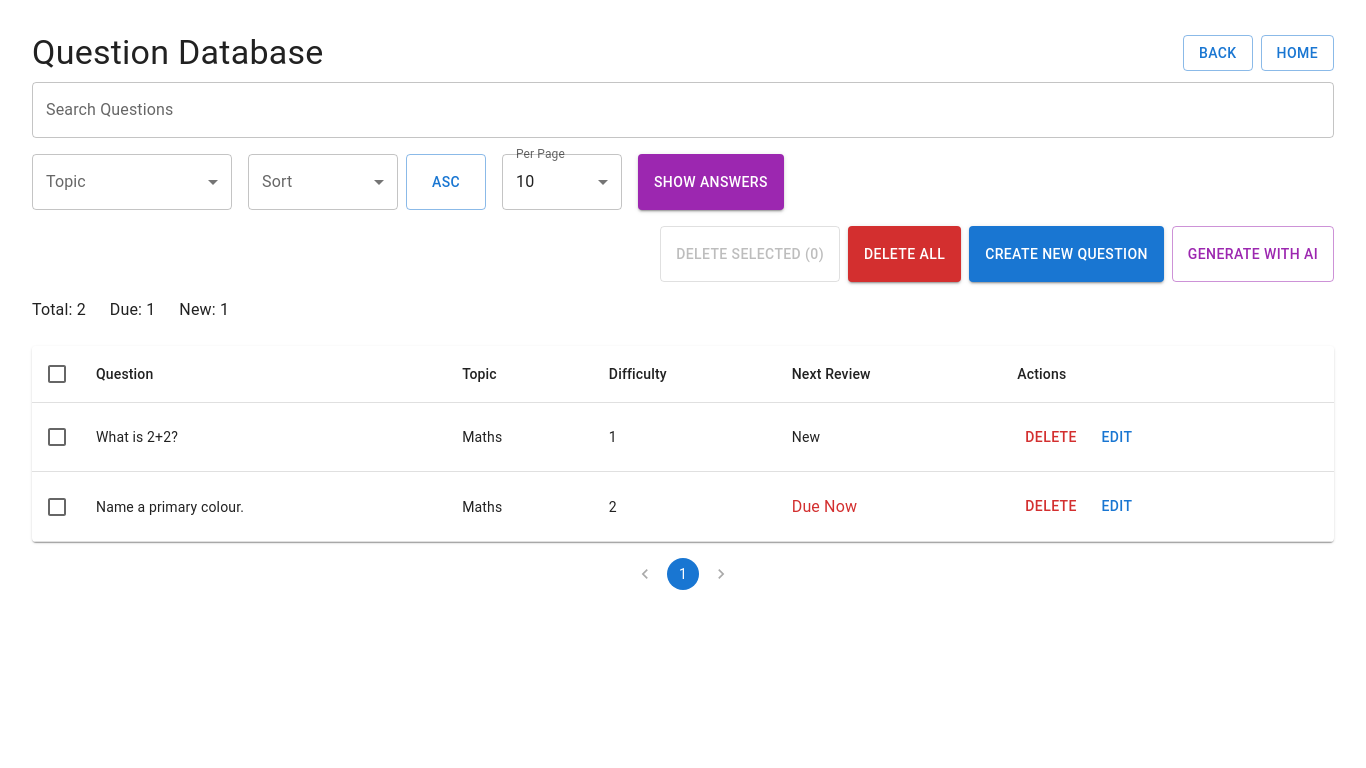
Scenario: Questions page › shows and hides answers when Show/Hide Answers is toggled
Expected: the text "What is 2+2?" is shown, [96,429,178,445]
Step 1. Click the button "Show Answers" → [711, 182], box [638,154,784,210]
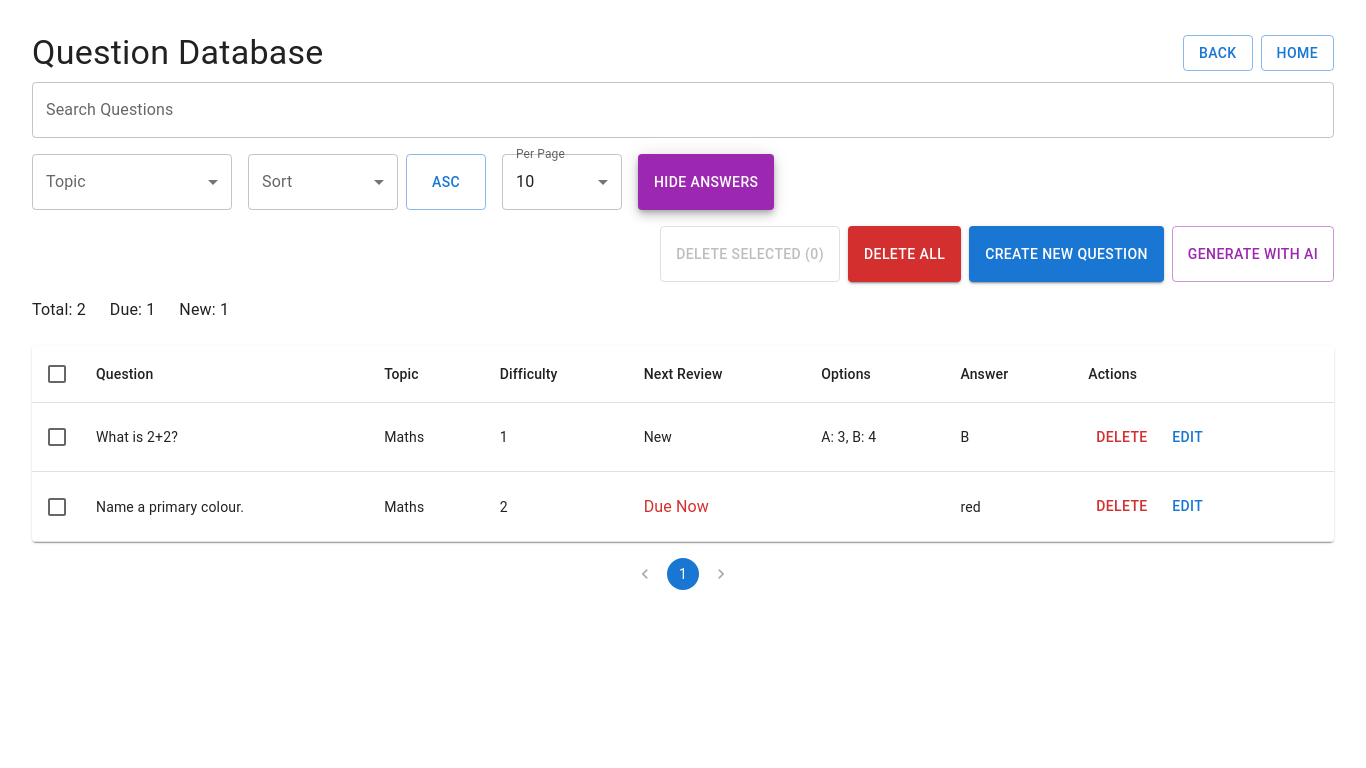
Now the button "Hide Answers" is shown, box [638,154,774,210]
Now the column heading "Answer" is shown, box [944,346,1072,403]
